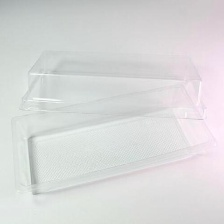plastic_box: (4, 38, 223, 202)
